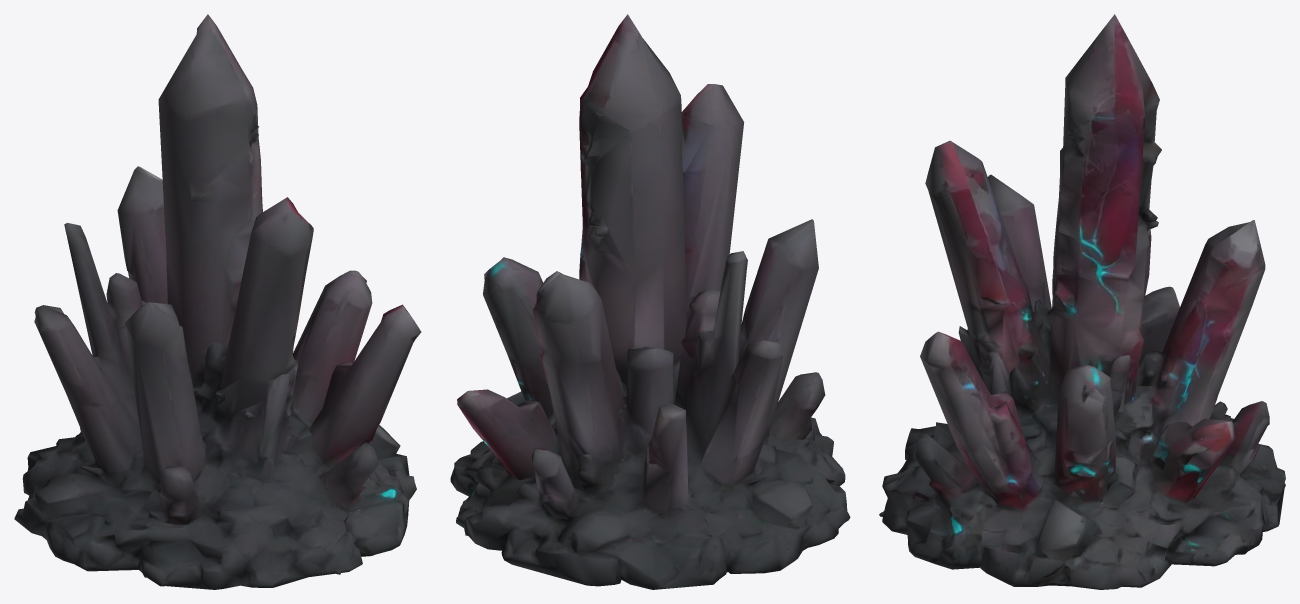
The model's file is crystal_cluster.glb.
The picture shows the model from 3 angles, left to right: view 1: azimuth 30°, elevation 25°; view 2: azimuth 150°, elevation 25°; view 3: azimuth 270°, elevation 25°; orthographic projection. The views are drawn at different scales.
Parts seen in each view (by area): view 1: tripo_node_673ae2e3-a282-46cb-809b-6cd10e7e9e9c; view 2: tripo_node_673ae2e3-a282-46cb-809b-6cd10e7e9e9c; view 3: tripo_node_673ae2e3-a282-46cb-809b-6cd10e7e9e9c.
Boxes of the visible parts, x1,y1,x2,y2 form: tripo_node_673ae2e3-a282-46cb-809b-6cd10e7e9e9c: (14, 14, 421, 589); tripo_node_673ae2e3-a282-46cb-809b-6cd10e7e9e9c: (450, 14, 850, 589); tripo_node_673ae2e3-a282-46cb-809b-6cd10e7e9e9c: (879, 14, 1285, 589).
Size of the model in its own units: 0.7299 by 0.9961 by 0.7397.
1 material, 1 textured.
